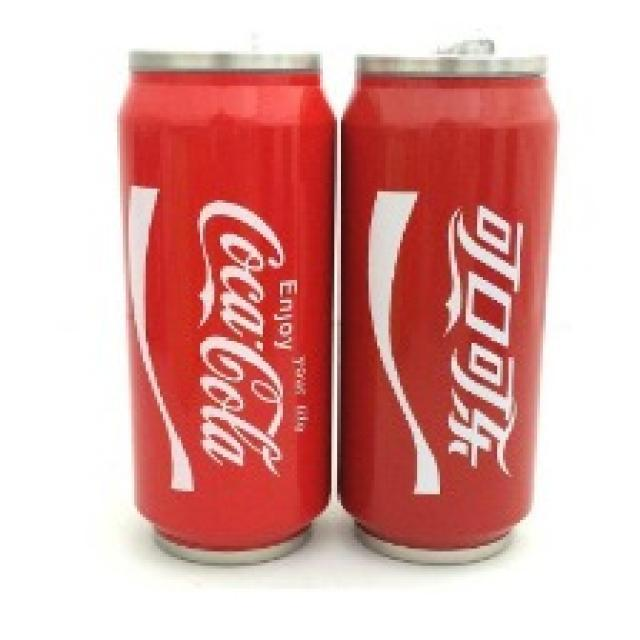metel: (125, 46, 342, 567), (355, 46, 542, 564)
